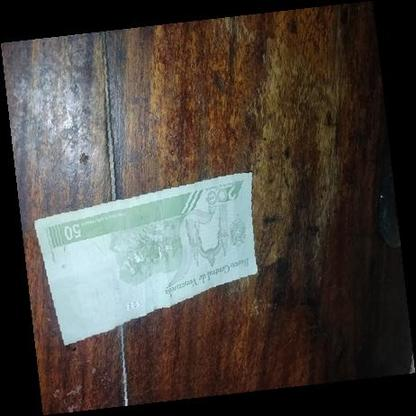vef_back: (34, 171, 258, 346)
